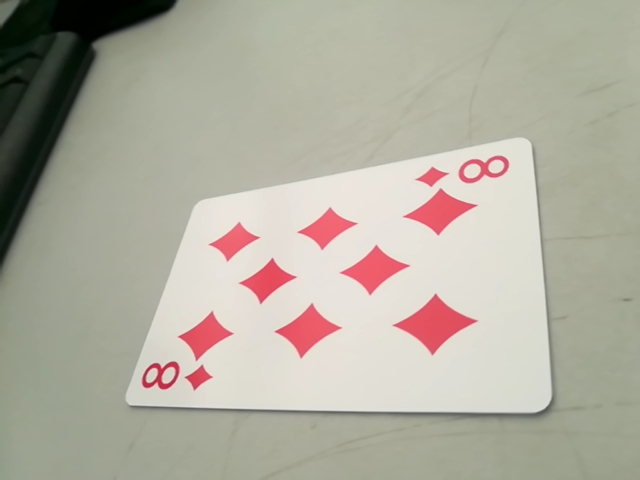fk 8: (416, 153, 517, 191), (135, 358, 214, 399)
